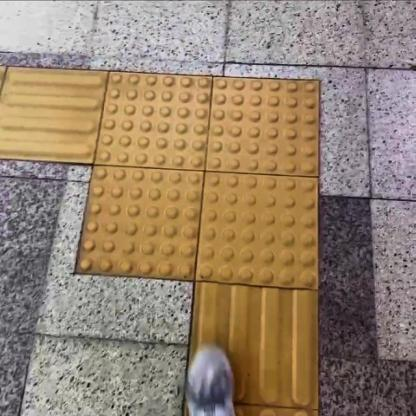podotacti: (49, 34, 355, 339)
